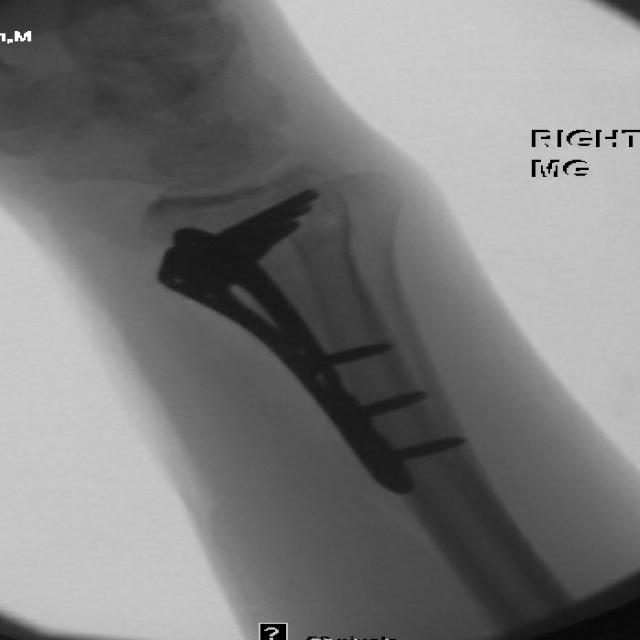x-ray: (121, 182, 504, 506)
